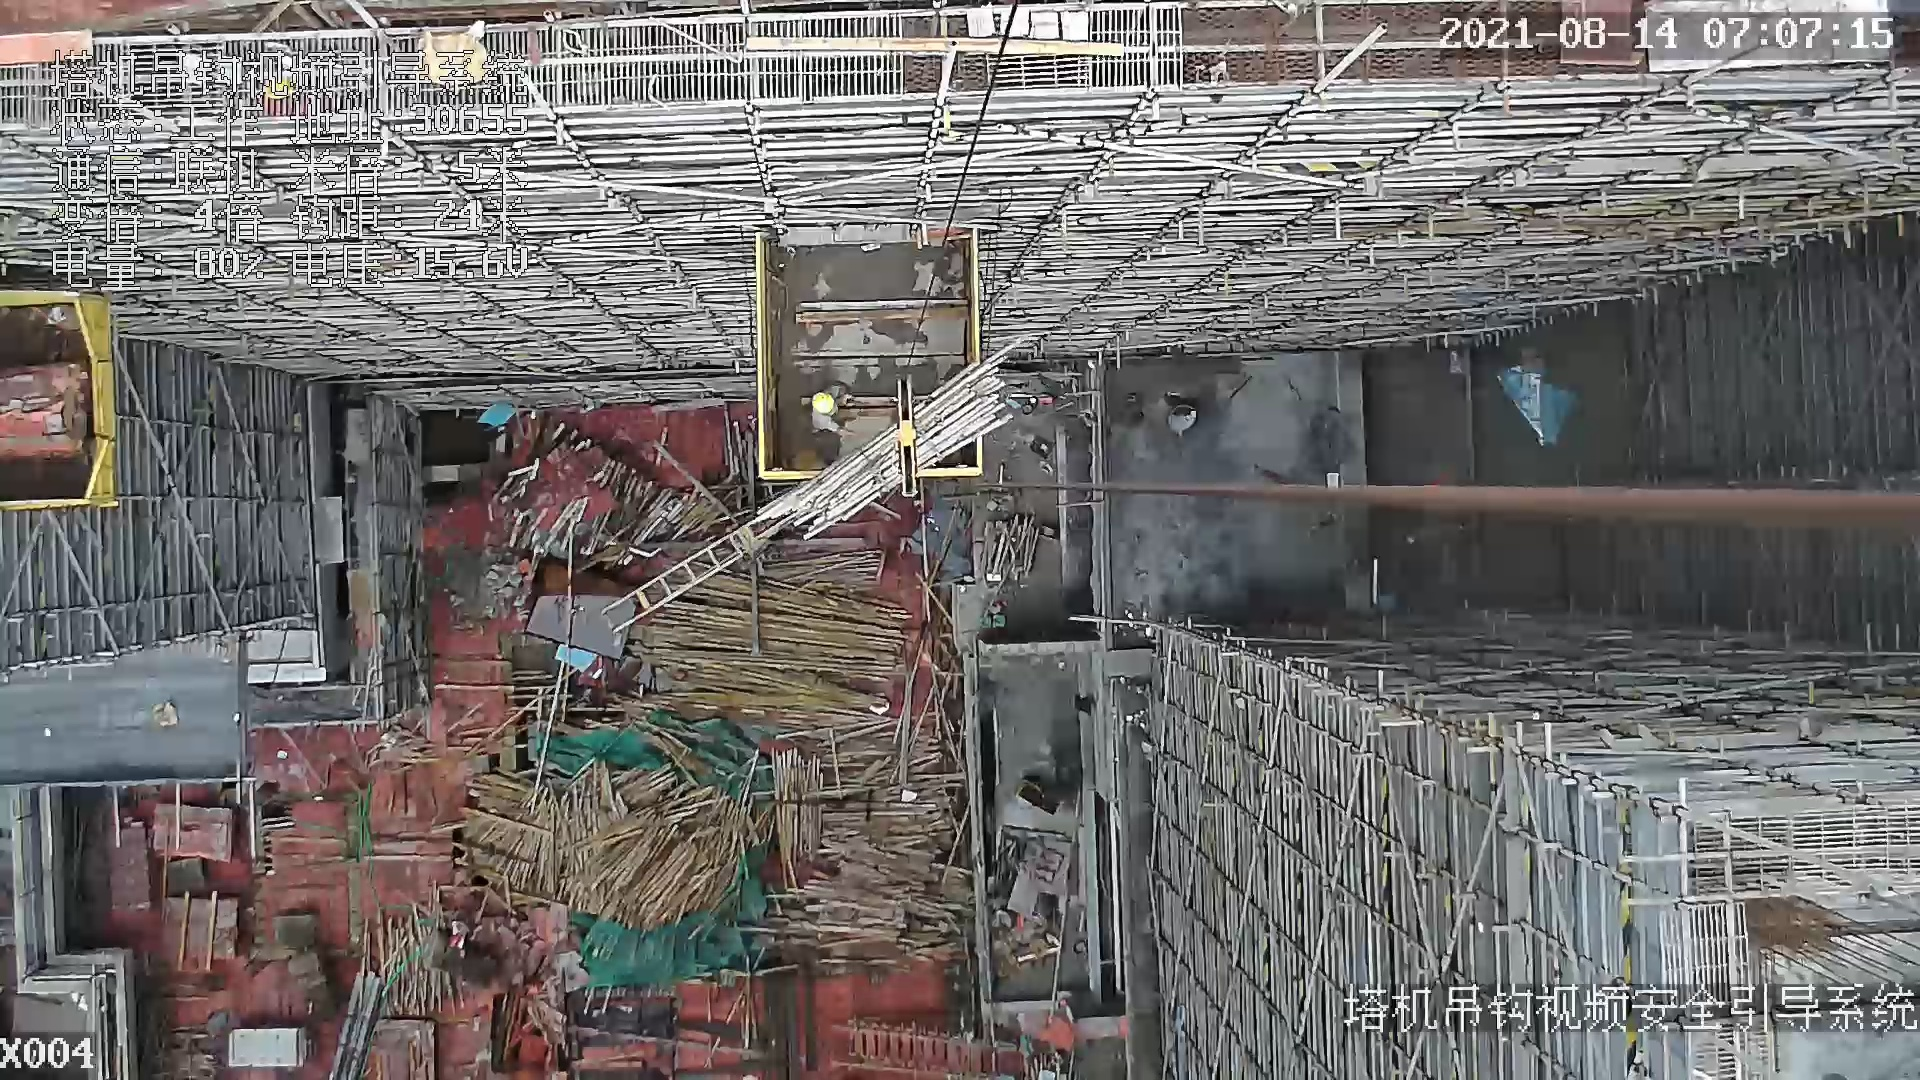helmet: (813, 391, 836, 414)
hook: (891, 371, 920, 496)
person: (809, 382, 862, 435)
